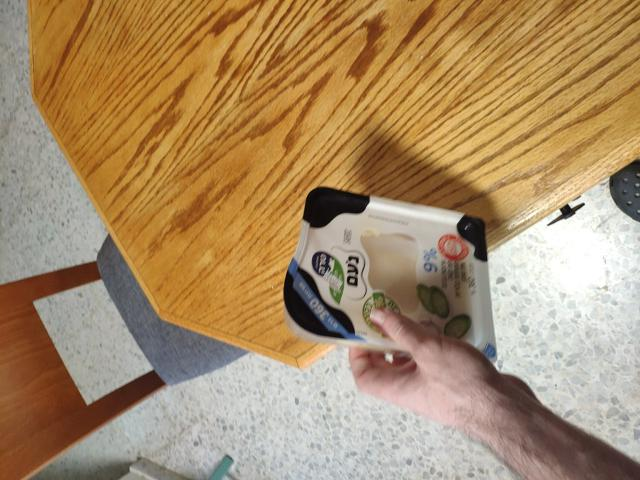cheese: (278, 185, 500, 376)
